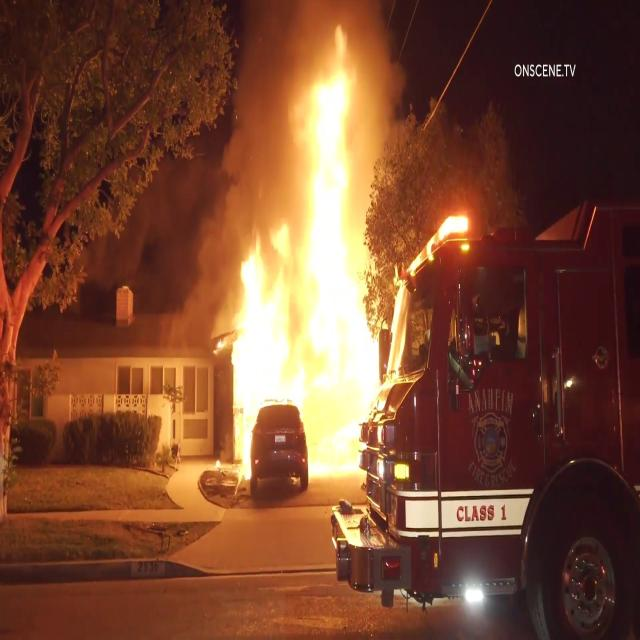fire: (282, 95, 365, 407), (312, 0, 364, 476), (240, 140, 308, 398)
smoke: (166, 162, 224, 324), (238, 8, 305, 88), (378, 8, 415, 102)
